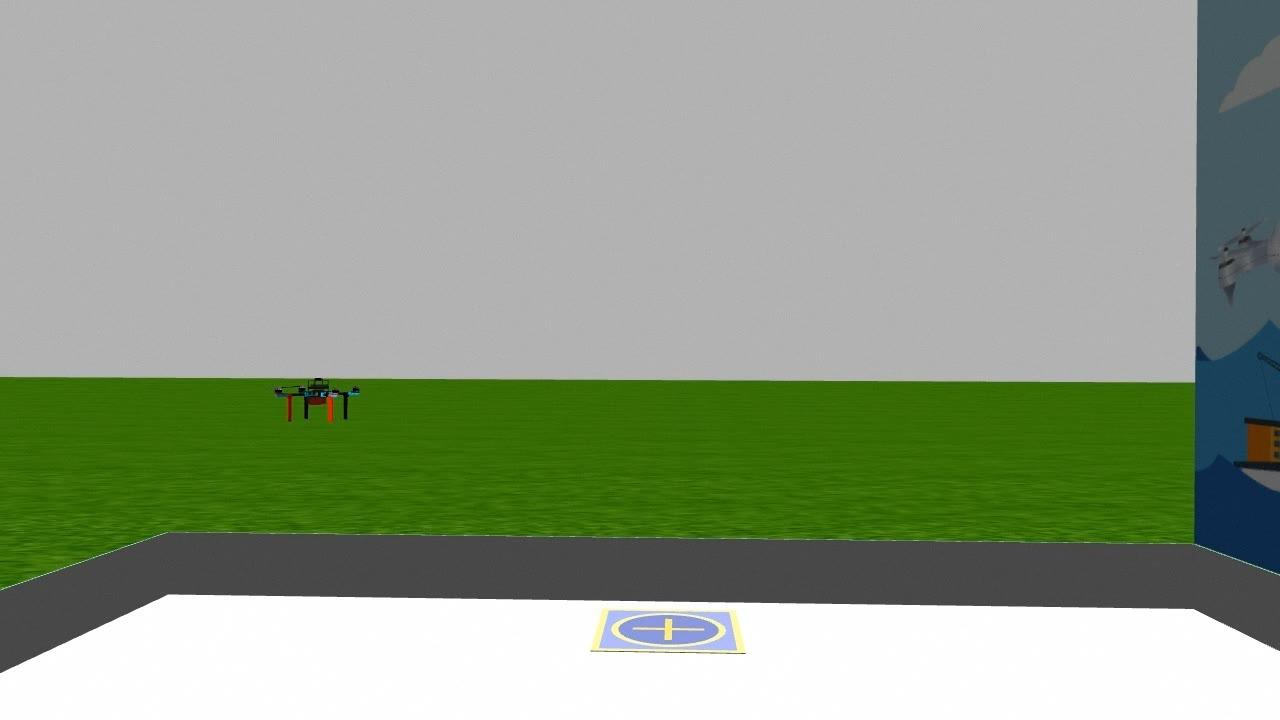UAV: (267, 362, 362, 444)
